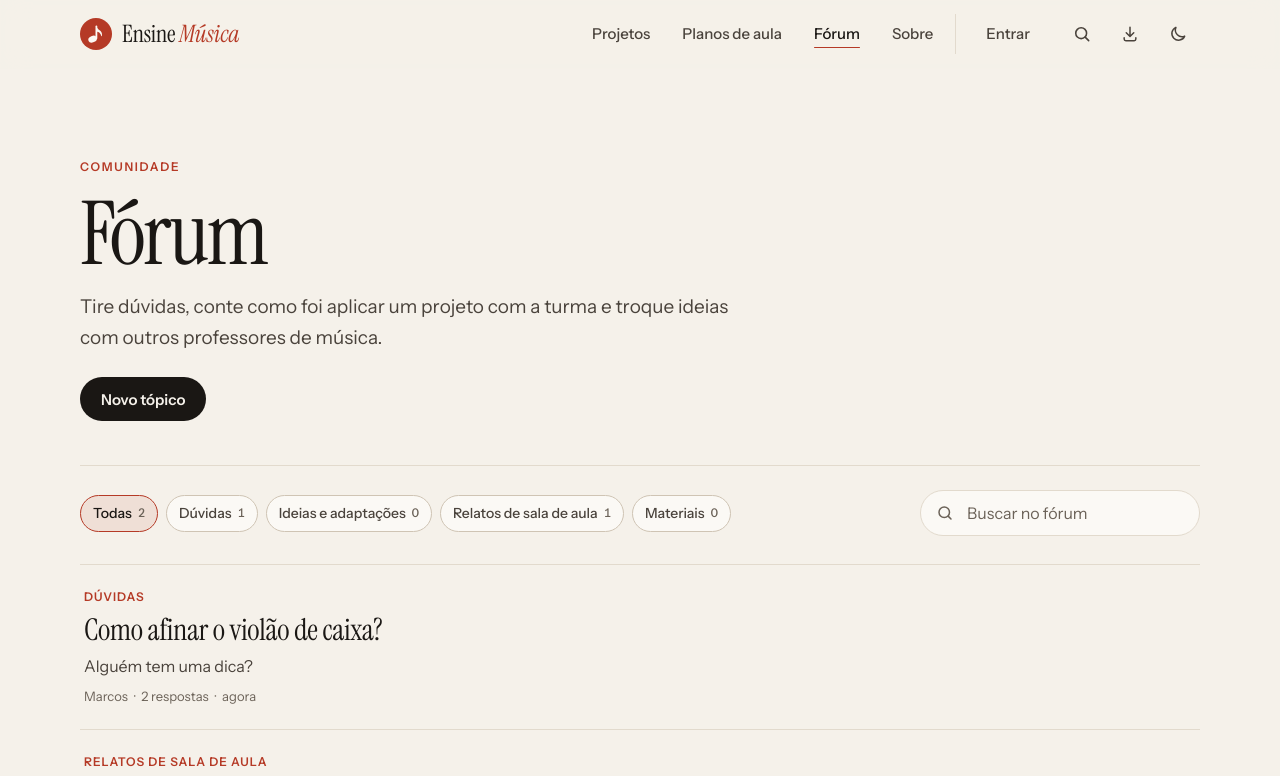
fórum filtra os tópicos por categoria
The image size is (1280, 776).
expect the heading "Como afinar o violão de caixa?" is shown: met, box [84,610,383,649]
Step 1. Click the button "Relatos de sala de aula 1" → (532, 513), box [440,495,624,532]
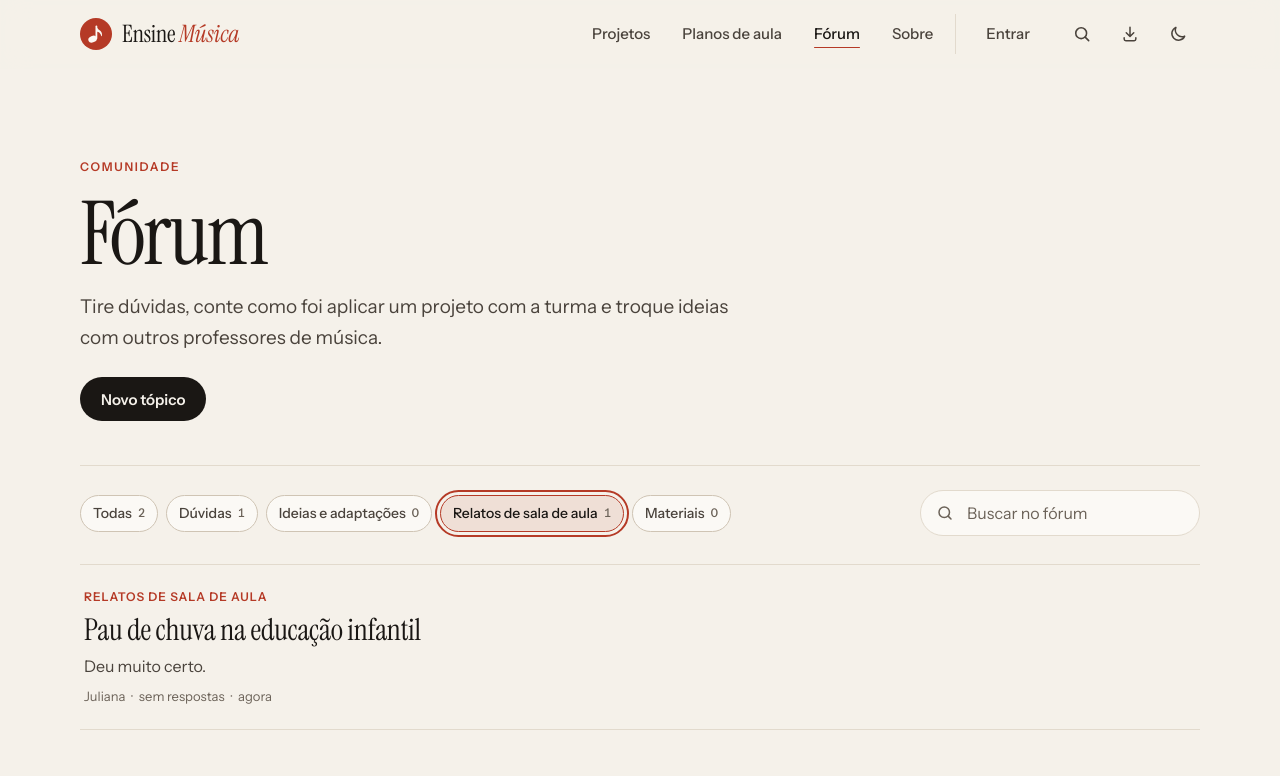
expect the heading "Pau de chuva na educação infantil" is shown: met, box [84,610,421,649]
expect the link "Como afinar o violão de caixa?" is gone: met
